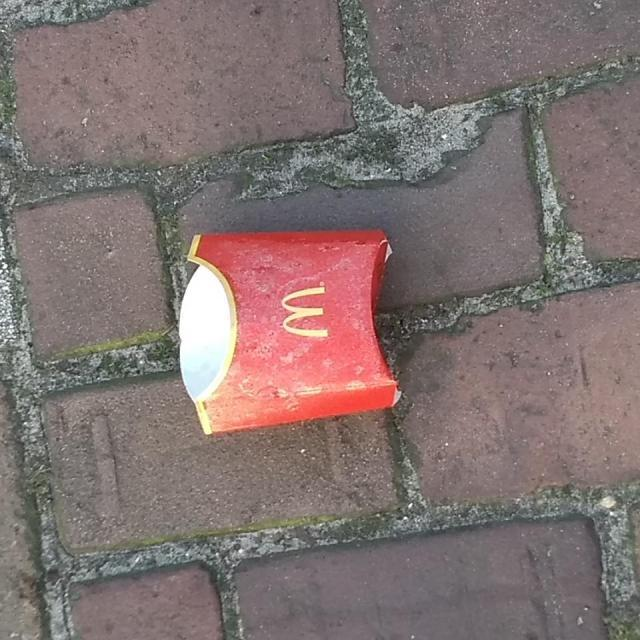Paper: (176, 226, 404, 437)
